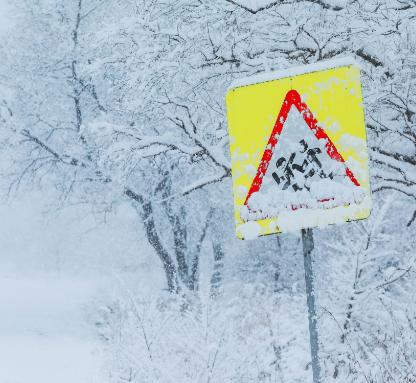obstructed_road_sign: (227, 59, 371, 238)
